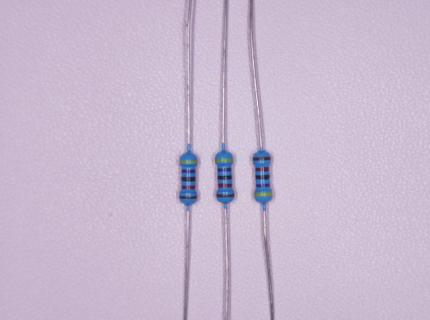Black band: (181, 176, 196, 182), (217, 175, 233, 180), (255, 175, 270, 180)
Brown band: (179, 195, 197, 200), (252, 157, 271, 161), (216, 194, 234, 198)
Red band: (255, 167, 270, 172), (218, 183, 232, 188), (181, 185, 195, 190)
Violet band: (255, 183, 270, 188), (181, 169, 196, 173), (217, 168, 232, 172)
Yellow band: (254, 192, 272, 197), (179, 160, 198, 164), (215, 159, 233, 163)
